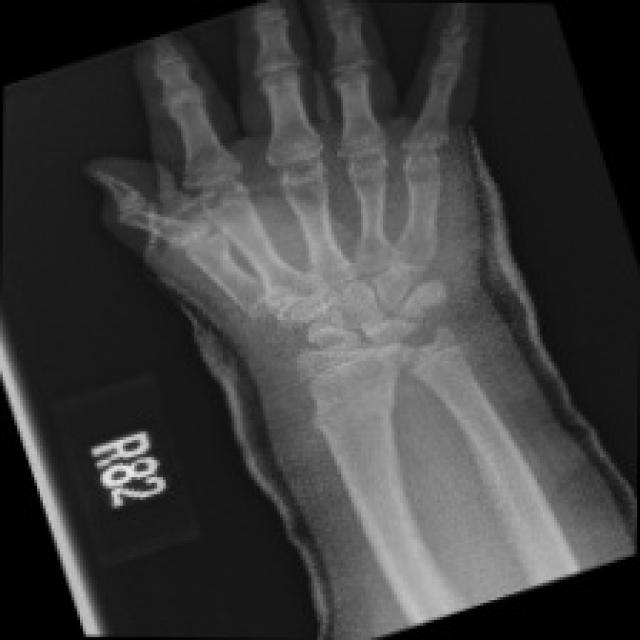fracture: (293, 369, 403, 452)
